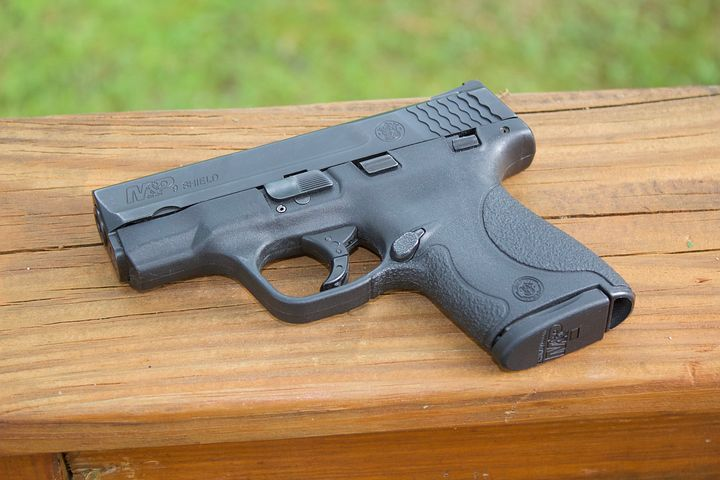gun: (87, 89, 636, 376)
